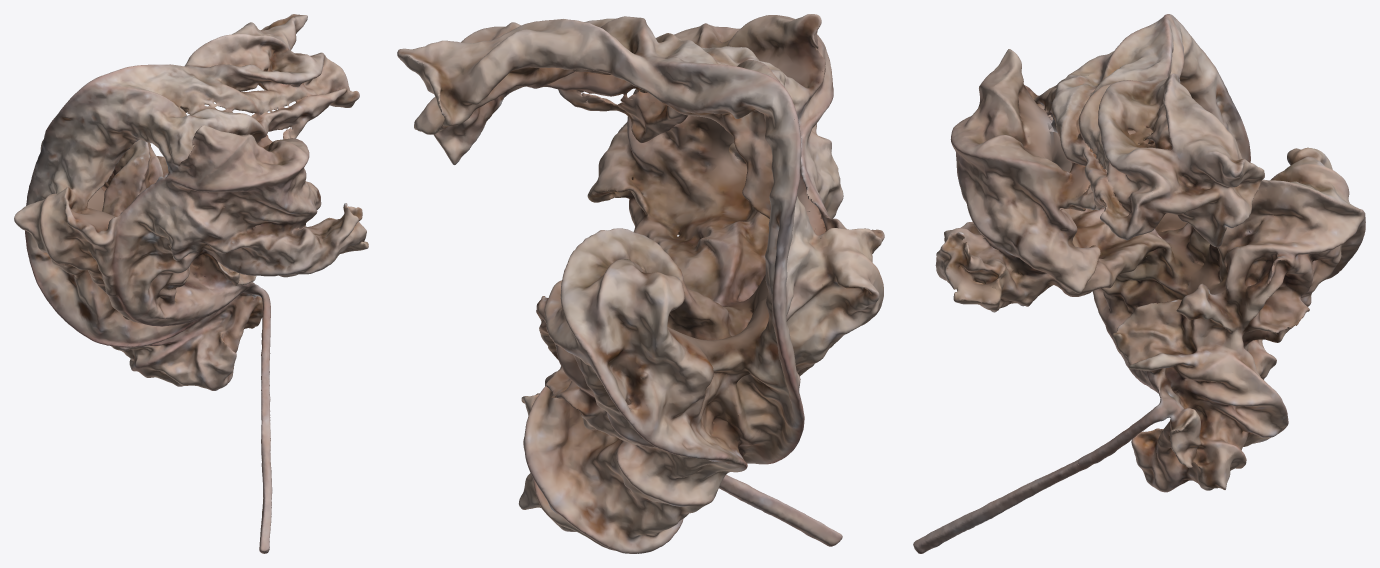
The model's file is 5-dryLeaf.glb.
3 renders of one model, left to right at view 1: azimuth 30°, elevation 25°; view 2: azimuth 150°, elevation 25°; view 3: azimuth 270°, elevation 25°, orthographic. The views are drawn at different scales.
Parts seen in each view (by area): view 1: Object_3, Object_2, Object_4; view 2: Object_2, Object_3, Object_4; view 3: Object_3, Object_2, Object_4.
Part boxes in pixels (x1,y1,x2,y2): Object_3: (14, 48, 368, 553); Object_2: (25, 118, 263, 349); Object_4: (141, 14, 366, 278); Object_2: (530, 85, 884, 530); Object_3: (464, 14, 883, 553); Object_4: (397, 16, 723, 414); Object_3: (913, 14, 1331, 553); Object_2: (1027, 112, 1365, 385); Object_4: (935, 69, 1283, 376).
Bounding box in the file's own units: 0.5304 × 0.6834 × 0.5465.
